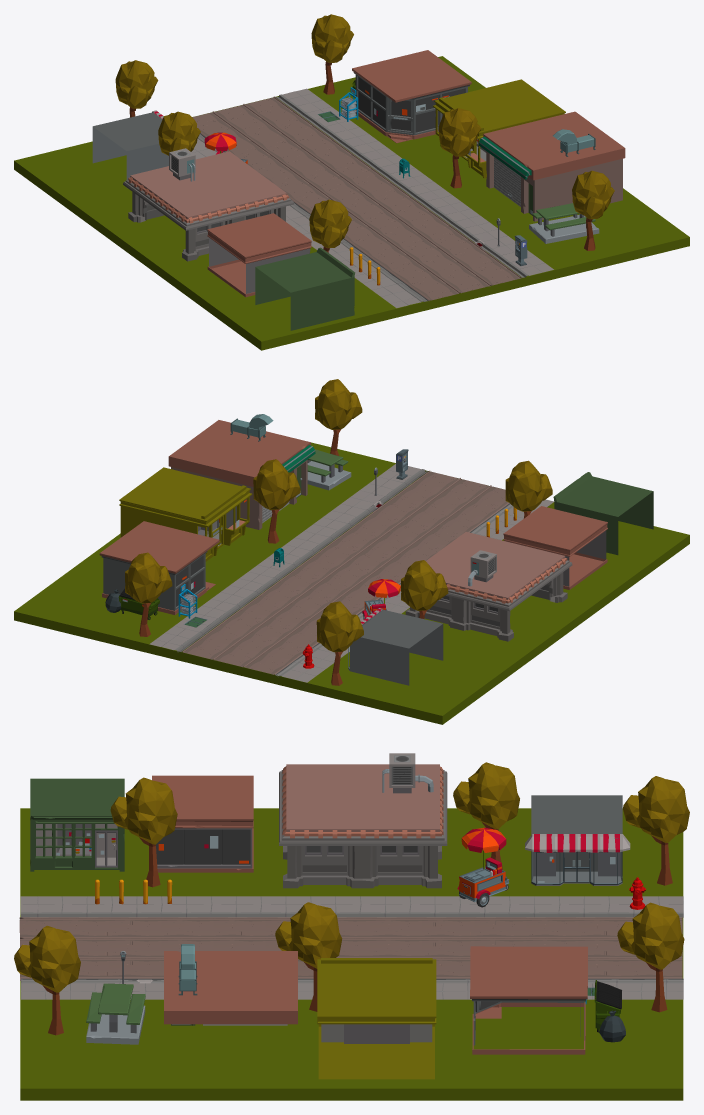
The model's file is House Area 9.fbx.
3 views of the same model, one above another, from view 1: azimuth 30°, elevation 25°; view 2: azimuth 150°, elevation 25°; view 3: azimuth 270°, elevation 25° (orthographic). The views are drawn at different scales.
Visible parts, largest first — view 1: Plane.009, SM_Env_Path_Straight_01.007, SM_Env_Sidewalk_Straight_01.010, SM_Bld_Shop_06.001, SM_Bld_OfficeOld_Small_Roof_01.002, SM_Bld_Shop_Corner_02.001, SM_Bld_Shop_02.002, SM_Bld_Shop_05.003, SM_Bld_Shop_04.001, SM_Bld_Shop_01.003, SM_Env_Tree_03.028, SM_Env_Tree_03.029 (+8 smaller); view 2: Plane.009, SM_Env_Path_Straight_01.007, SM_Env_Sidewalk_Straight_01.010, SM_Bld_OfficeOld_Small_Roof_01.002, SM_Bld_Shop_04.001, SM_Bld_Shop_06.001, SM_Bld_Shop_Corner_02.001, SM_Bld_Shop_01.003, SM_Bld_Shop_05.003, SM_Bld_Shop_02.002, SM_Env_Tree_03.028, SM_Env_Tree_03.027 (+9 smaller); view 3: Plane.009, SM_Env_Path_Straight_01.007, SM_Bld_OfficeOld_Small_Roof_01.002, SM_Env_Sidewalk_Straight_01.010, SM_Bld_Shop_04.001, SM_Bld_Shop_06.001, SM_Bld_Shop_05.003, SM_Bld_Shop_01.003, SM_Bld_Shop_Corner_02.001, SM_Bld_Shop_02.002, SM_Env_Tree_03.029, SM_Env_Tree_03.027 (+10 smaller).
Part boxes in pixels (x1=…): Plane.009: x1=14, y1=56, x2=689, y2=350; SM_Env_Path_Straight_01.007: x1=192, y1=96, x2=521, y2=301; SM_Env_Sidewalk_Straight_01.010: x1=191, y1=88, x2=553, y2=308; SM_Bld_Shop_06.001: x1=478, y1=111, x2=625, y2=221; SM_Bld_OfficeOld_Small_Roof_01.002: x1=123, y1=151, x2=293, y2=261; SM_Bld_Shop_Corner_02.001: x1=352, y1=50, x2=471, y2=143; SM_Bld_Shop_02.002: x1=255, y1=247, x2=355, y2=330; SM_Bld_Shop_05.003: x1=207, y1=213, x2=311, y2=297; SM_Bld_Shop_04.001: x1=433, y1=79, x2=565, y2=178; SM_Bld_Shop_01.003: x1=92, y1=110, x2=168, y2=188; SM_Env_Tree_03.028: x1=438, y1=108, x2=481, y2=188; SM_Env_Tree_03.029: x1=572, y1=170, x2=614, y2=250; Plane.009: x1=14, y1=442, x2=689, y2=724; SM_Env_Path_Straight_01.007: x1=182, y1=470, x2=509, y2=674; SM_Env_Sidewalk_Straight_01.010: x1=149, y1=449, x2=553, y2=682; SM_Bld_OfficeOld_Small_Roof_01.002: x1=405, y1=532, x2=572, y2=641; SM_Bld_Shop_04.001: x1=119, y1=467, x2=252, y2=561; SM_Bld_Shop_06.001: x1=168, y1=420, x2=315, y2=529; SM_Bld_Shop_Corner_02.001: x1=99, y1=521, x2=219, y2=614; SM_Bld_Shop_01.003: x1=348, y1=608, x2=443, y2=685; SM_Bld_Shop_05.003: x1=503, y1=506, x2=607, y2=589; SM_Bld_Shop_02.002: x1=553, y1=472, x2=653, y2=555; SM_Env_Tree_03.028: x1=253, y1=459, x2=300, y2=543; SM_Env_Tree_03.027: x1=125, y1=552, x2=172, y2=636; Plane.009: x1=20, y1=808, x2=683, y2=1100; SM_Env_Path_Straight_01.007: x1=19, y1=917, x2=682, y2=980; SM_Bld_OfficeOld_Small_Roof_01.002: x1=279, y1=764, x2=447, y2=888; SM_Env_Sidewalk_Straight_01.010: x1=20, y1=877, x2=683, y2=999; SM_Bld_Shop_04.001: x1=317, y1=958, x2=436, y2=1079; SM_Bld_Shop_06.001: x1=164, y1=951, x2=297, y2=1025; SM_Bld_Shop_05.003: x1=152, y1=775, x2=253, y2=872; SM_Bld_Shop_01.003: x1=525, y1=795, x2=630, y2=885; SM_Bld_Shop_Corner_02.001: x1=470, y1=946, x2=587, y2=1054; SM_Bld_Shop_02.002: x1=30, y1=778, x2=124, y2=871; SM_Env_Tree_03.029: x1=14, y1=925, x2=80, y2=1035; SM_Env_Tree_03.027: x1=617, y1=902, x2=684, y2=1012.
Size of the model in its own units: 10000 by 1945 by 10200.
